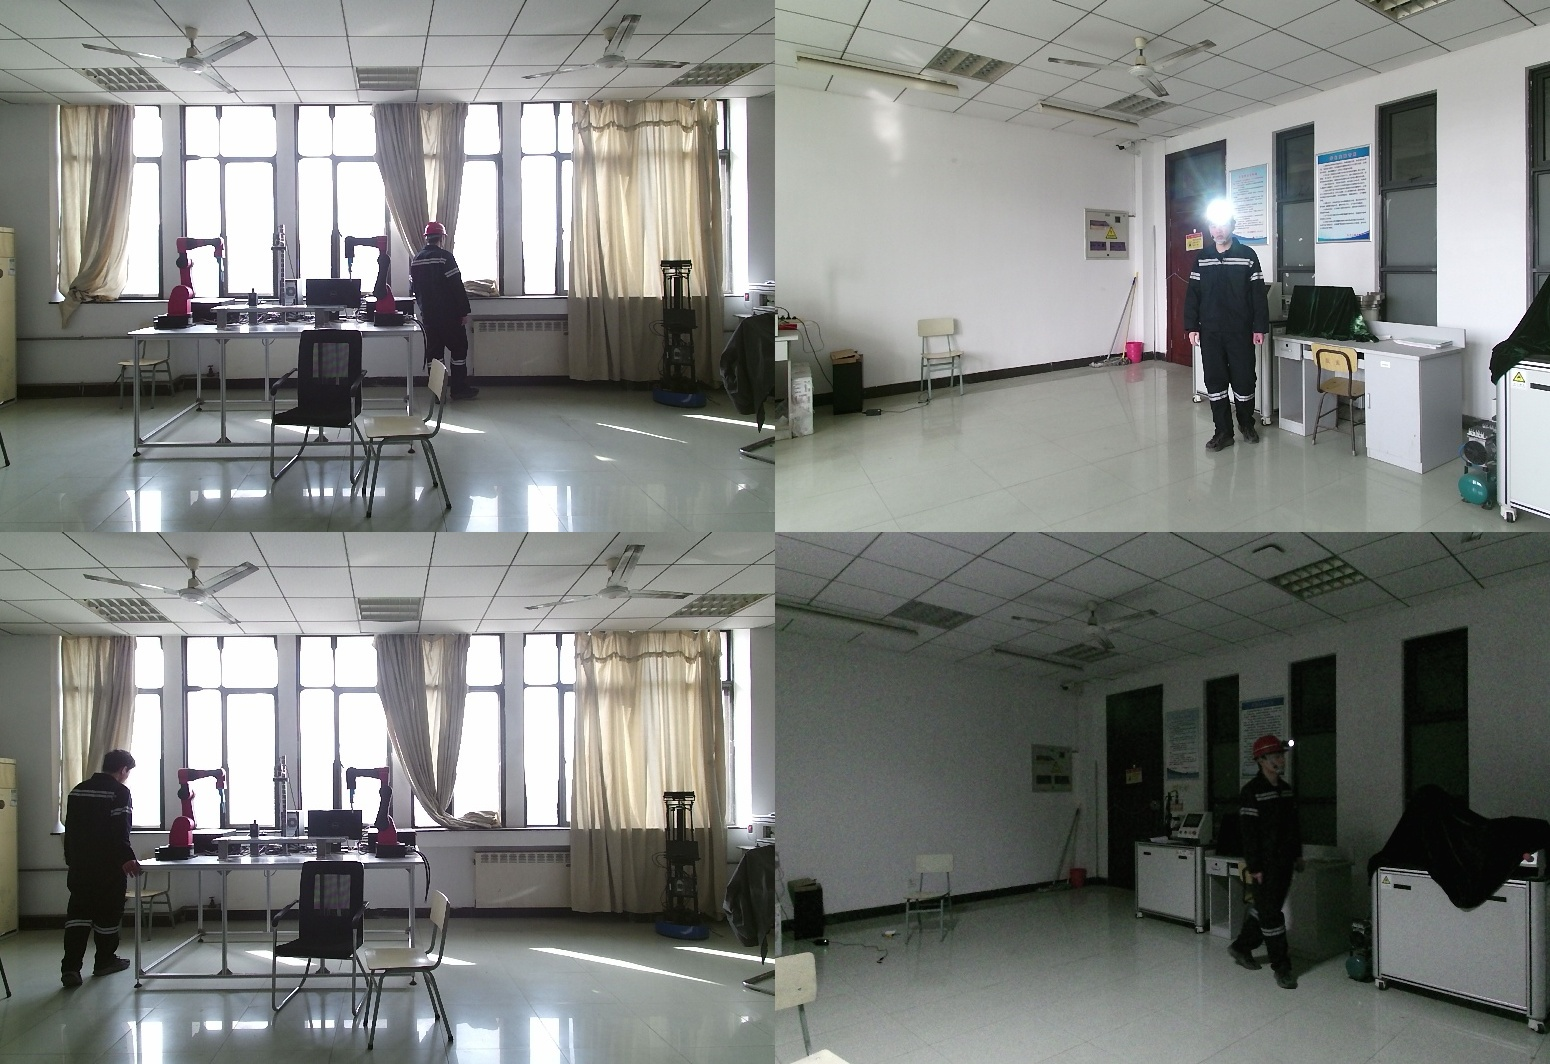person: (1191, 205, 1281, 452), (1229, 736, 1310, 989), (56, 749, 143, 985), (407, 223, 480, 407)
